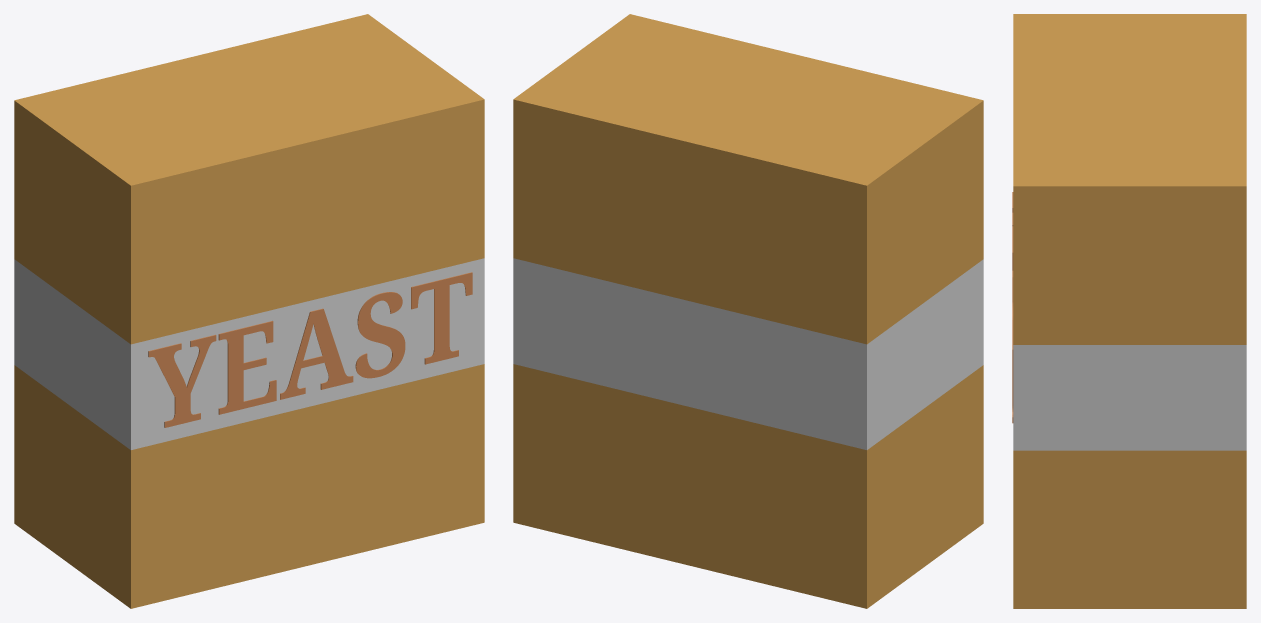
The model's file is yeest.glb.
The picture shows the model from 3 angles, left to right: view 1: azimuth 30°, elevation 25°; view 2: azimuth 150°, elevation 25°; view 3: azimuth 270°, elevation 25°; orthographic projection.
Visible parts, largest first — view 1: Mesh_Mesh_head_geo.001_lambert2SG.001; view 2: Mesh_Mesh_head_geo.001_lambert2SG.001; view 3: Mesh_Mesh_head_geo.001_lambert2SG.001.
Boxes of the visible parts, x1,y1,x2,y2 form: Mesh_Mesh_head_geo.001_lambert2SG.001: [14, 14, 484, 608]; Mesh_Mesh_head_geo.001_lambert2SG.001: [513, 14, 983, 608]; Mesh_Mesh_head_geo.001_lambert2SG.001: [1012, 14, 1246, 608].
Bounding box in the file's own units: 0.007 × 0.008 × 0.00402.
